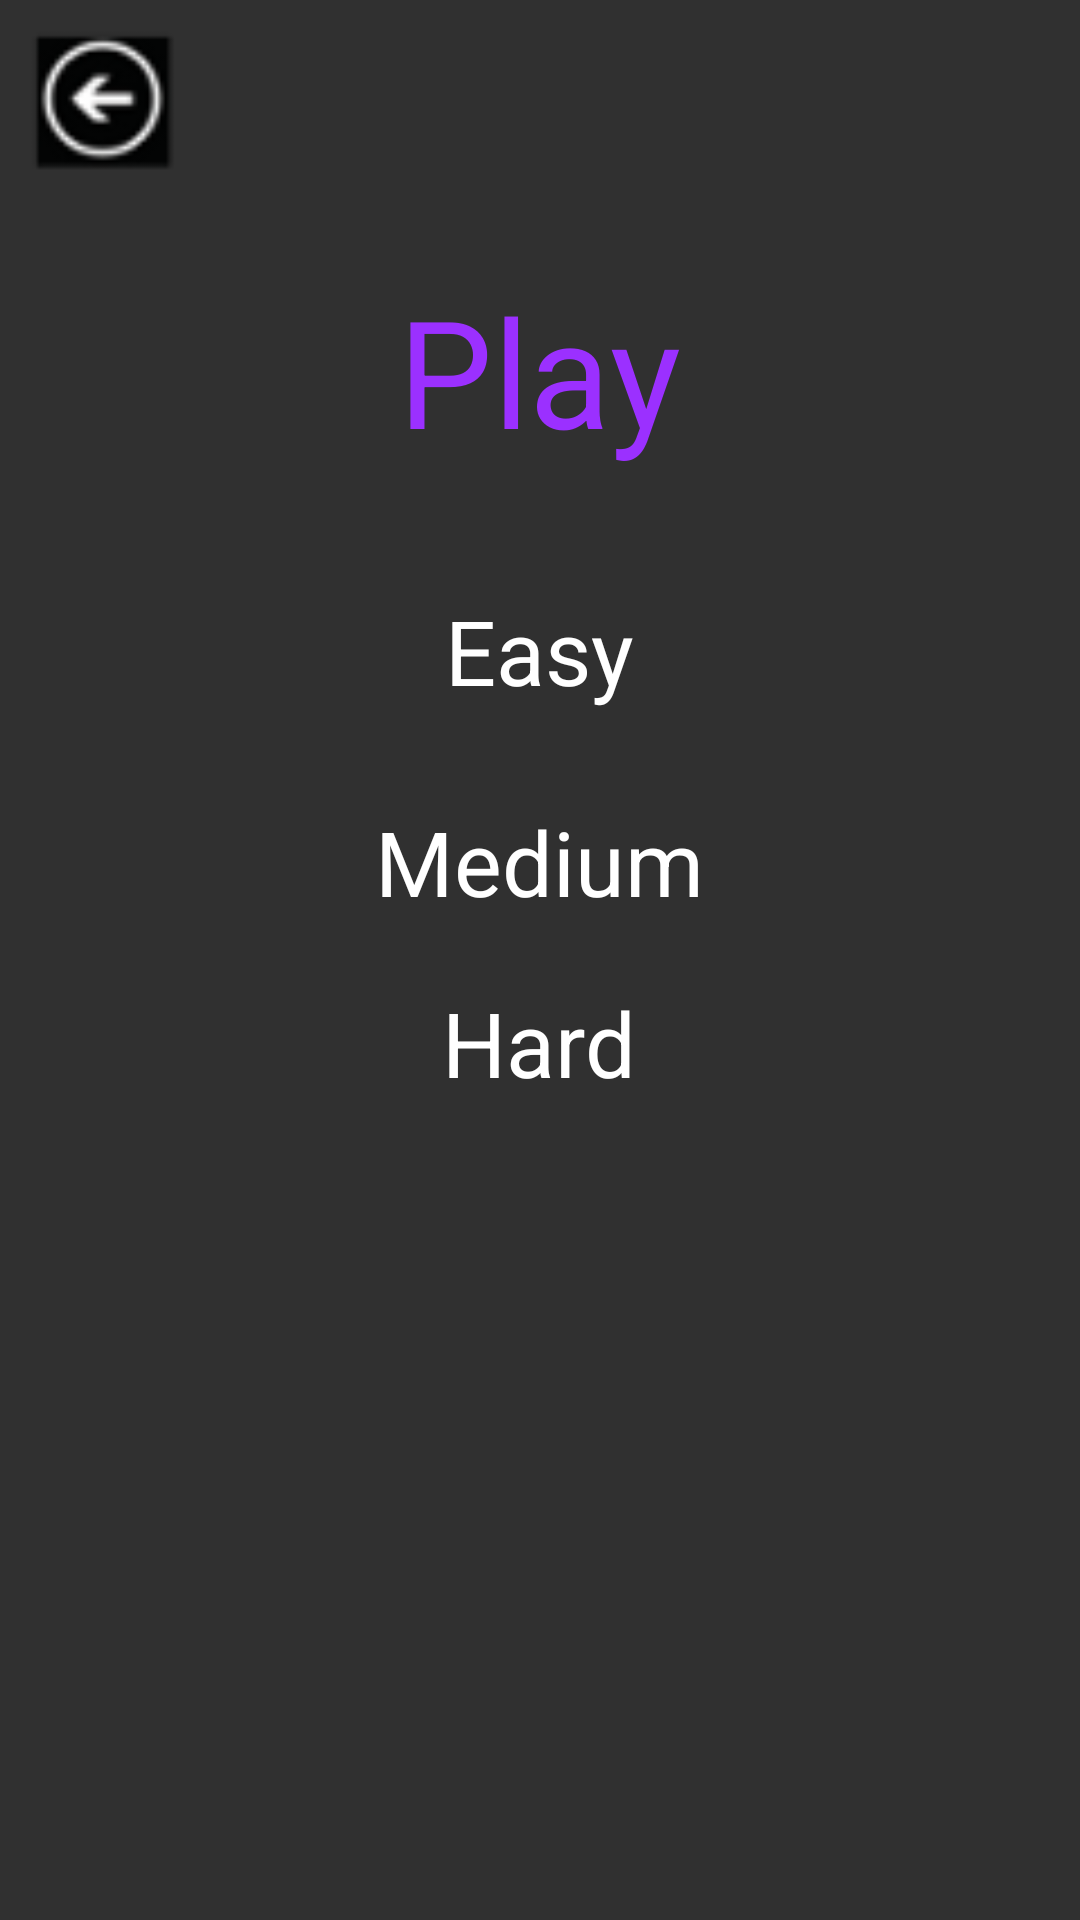

Screen size 1080px x 1920px. Icon name, then its box in pixels as (x1, y1, x2, y2):
backbutton: (37, 37, 169, 167)
